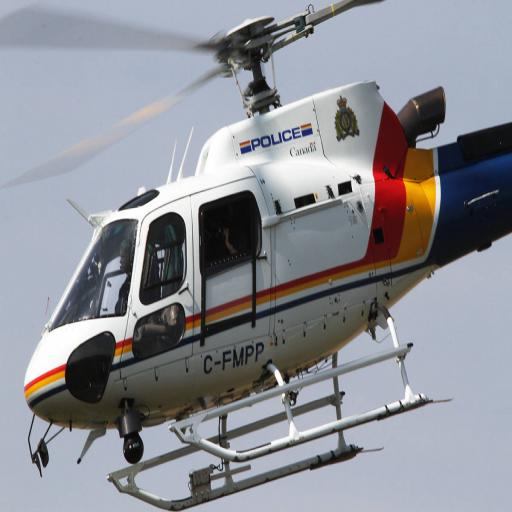helicopter: (20, 21, 510, 509)
